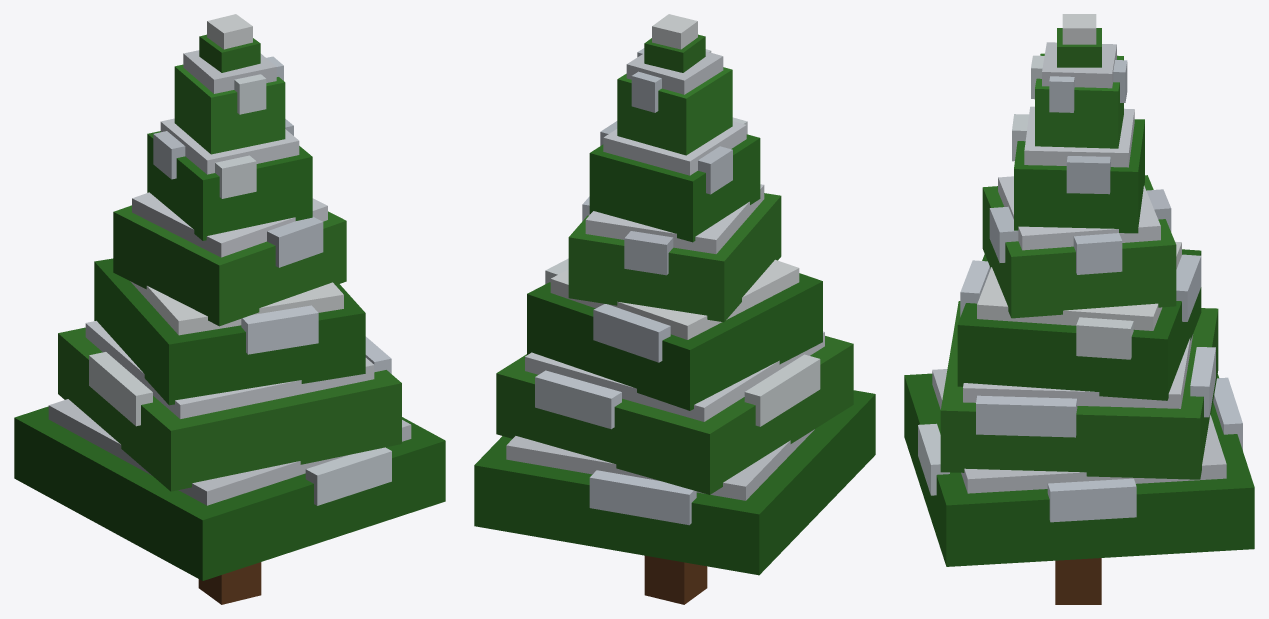
Rendered from pine_snow.glb.
The picture shows the model from 3 angles, left to right: view 1: azimuth 30°, elevation 25°; view 2: azimuth 150°, elevation 25°; view 3: azimuth 270°, elevation 25°; orthographic projection.
Visible parts, largest first — view 1: pine_snow; view 2: pine_snow; view 3: pine_snow.
Part boxes in pixels (x1=…): pine_snow: x1=14, y1=14, x2=445, y2=604; pine_snow: x1=474, y1=14, x2=875, y2=604; pine_snow: x1=904, y1=14, x2=1254, y2=604.
Bounding box in the file's own units: 3.1 × 5.6 × 3.1.
